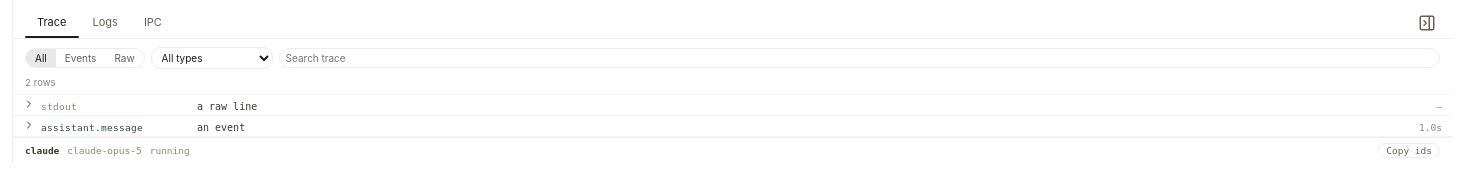
Scenario: DebugPanel › narrows the trace to raw output only
Step 1. Click the button "Raw" → [124, 58], box top-left (105, 49), bottom-right (144, 67)
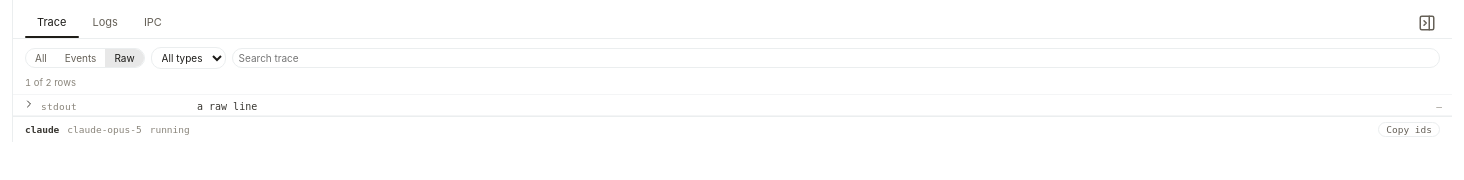
Expected: the text "a raw line" is shown, top-left (197, 101), bottom-right (257, 112)
Expected: the button "an event" is gone
